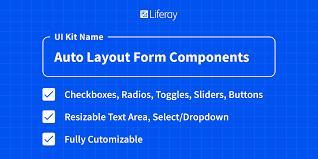checkbox: (43, 133, 57, 147), (44, 89, 56, 103), (43, 112, 56, 124)
label: (64, 90, 266, 104), (65, 112, 232, 125), (64, 134, 145, 148)
